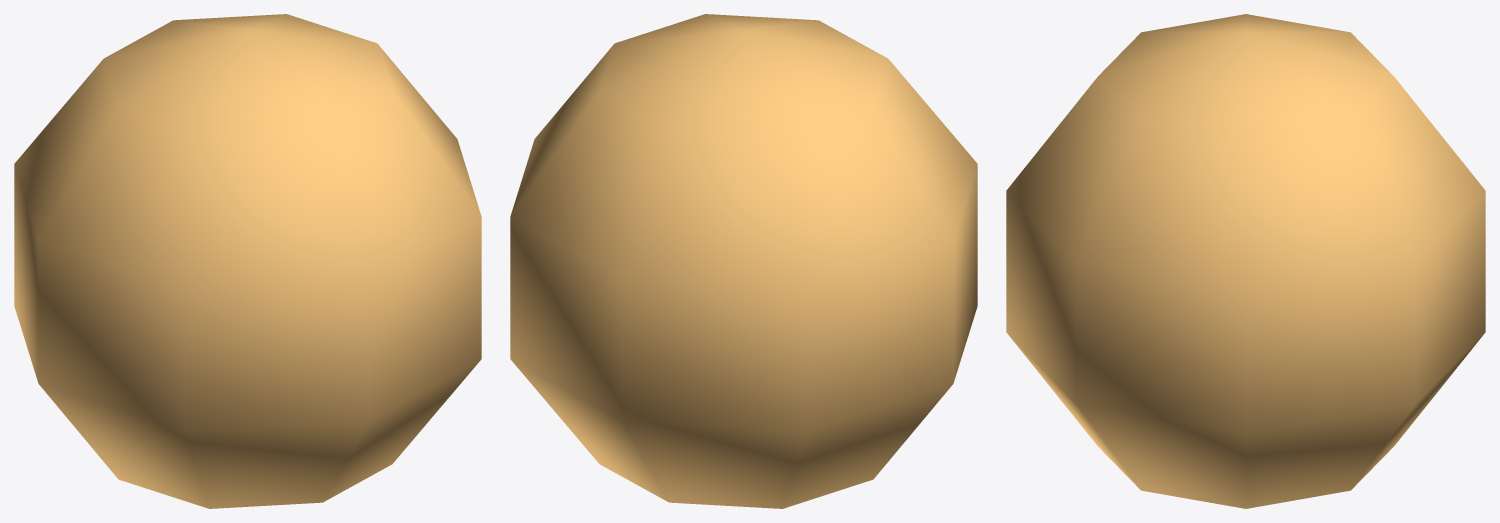
File: bne_lamp_glow.dae
3 views of the same model, side by side, from view 1: azimuth 30°, elevation 25°; view 2: azimuth 150°, elevation 25°; view 3: azimuth 270°, elevation 25° (orthographic).
Parts seen in each view (by area): view 1: glow2; view 2: glow2; view 3: glow2.
Boxes of the visible parts, bbox=[...] form: glow2: bbox=[14, 14, 481, 508]; glow2: bbox=[510, 14, 977, 508]; glow2: bbox=[1006, 14, 1485, 508].
Size of the model in its own units: 5.71 by 5.71 by 6.
